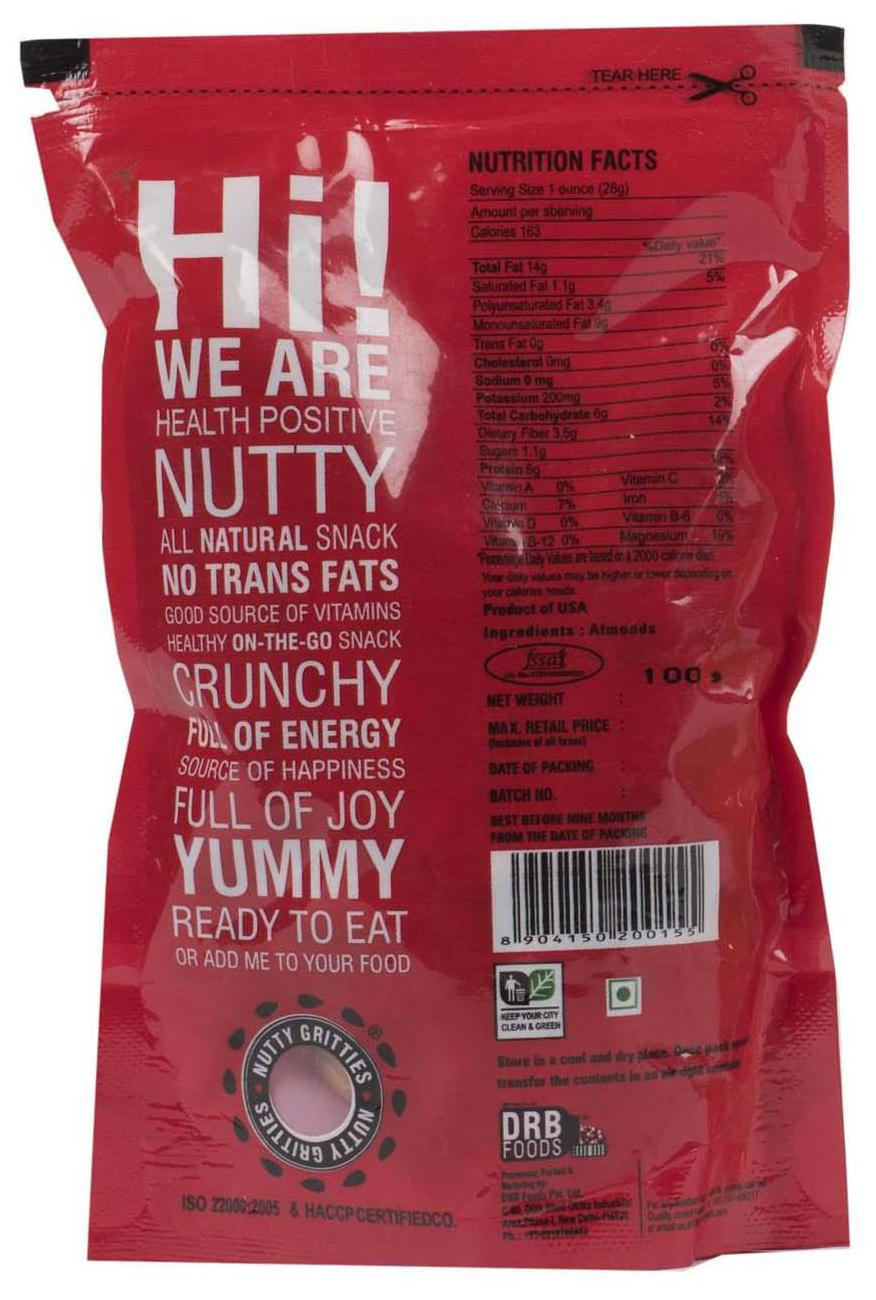fssai: (521, 647, 567, 669)
